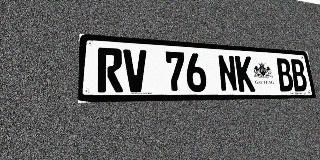6: (185, 53, 207, 92)
7: (164, 51, 187, 92)
B: (275, 58, 294, 91), (290, 59, 308, 91)
K: (235, 56, 255, 92)
N: (217, 54, 238, 92)
R: (97, 47, 123, 92)
V: (123, 49, 148, 92)
